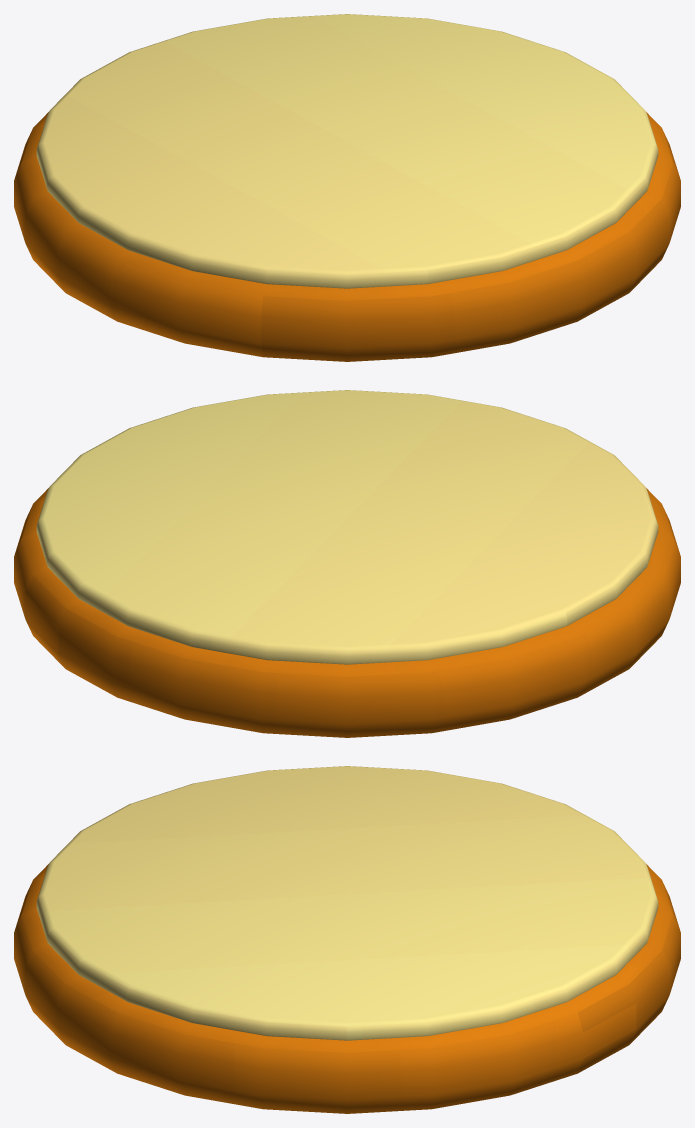
The model's file is bun_bottom.glb.
3 renders of one model, top to bottom at view 1: azimuth 30°, elevation 25°; view 2: azimuth 150°, elevation 25°; view 3: azimuth 270°, elevation 25°, orthographic.
Parts seen in each view (by area): view 1: BunBottomInner, BunBottomCrust; view 2: BunBottomInner, BunBottomCrust; view 3: BunBottomInner, BunBottomCrust.
Boxes of the visible parts, x1=… form: BunBottomInner: x1=36, y1=14, x2=658, y2=288; BunBottomCrust: x1=14, y1=112, x2=680, y2=361; BunBottomInner: x1=36, y1=390, x2=658, y2=664; BunBottomCrust: x1=14, y1=488, x2=680, y2=737; BunBottomInner: x1=36, y1=766, x2=658, y2=1040; BunBottomCrust: x1=14, y1=864, x2=680, y2=1113.
Size of the model in its own units: 0.44 by 0.065 by 0.44.
2 materials, 2 textured.
